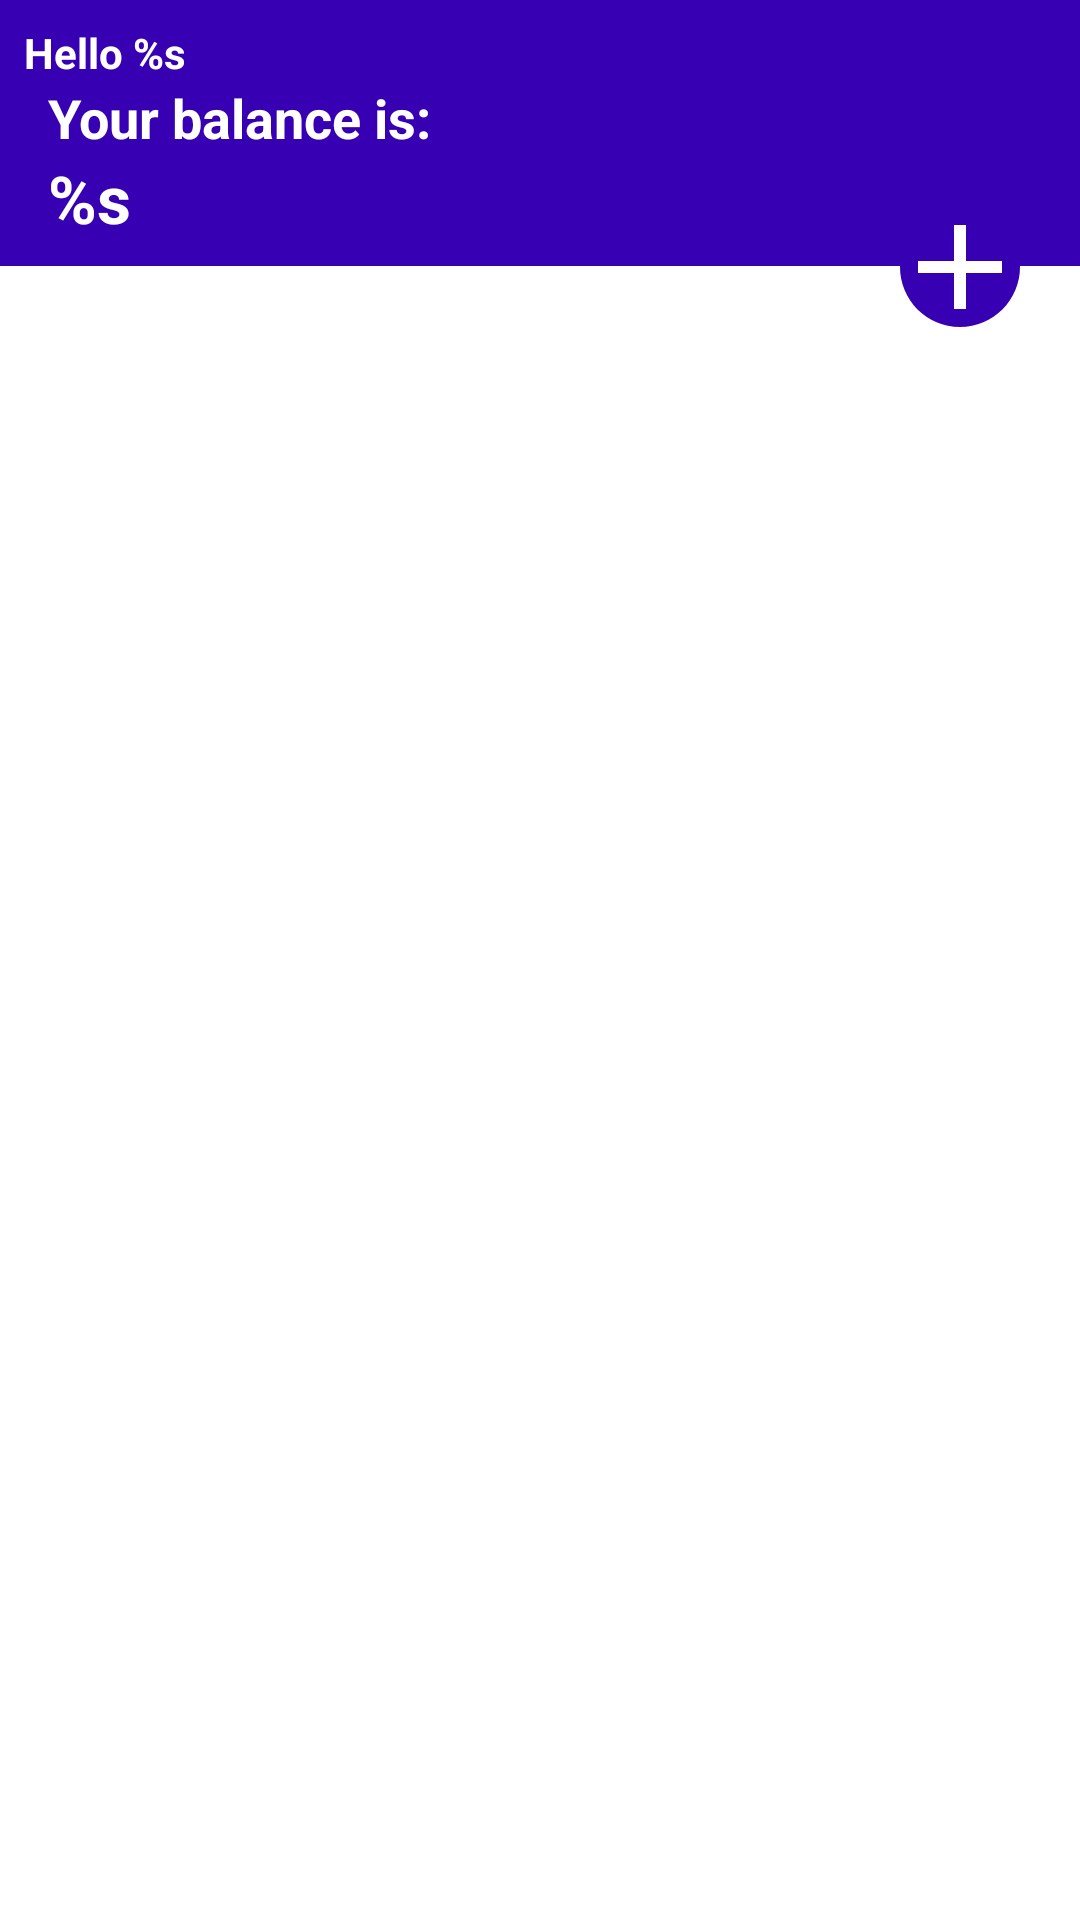

Icon click points for this 1080px×1920px phone screenshot, format (x,y):
Add Transaction: (960,267)
